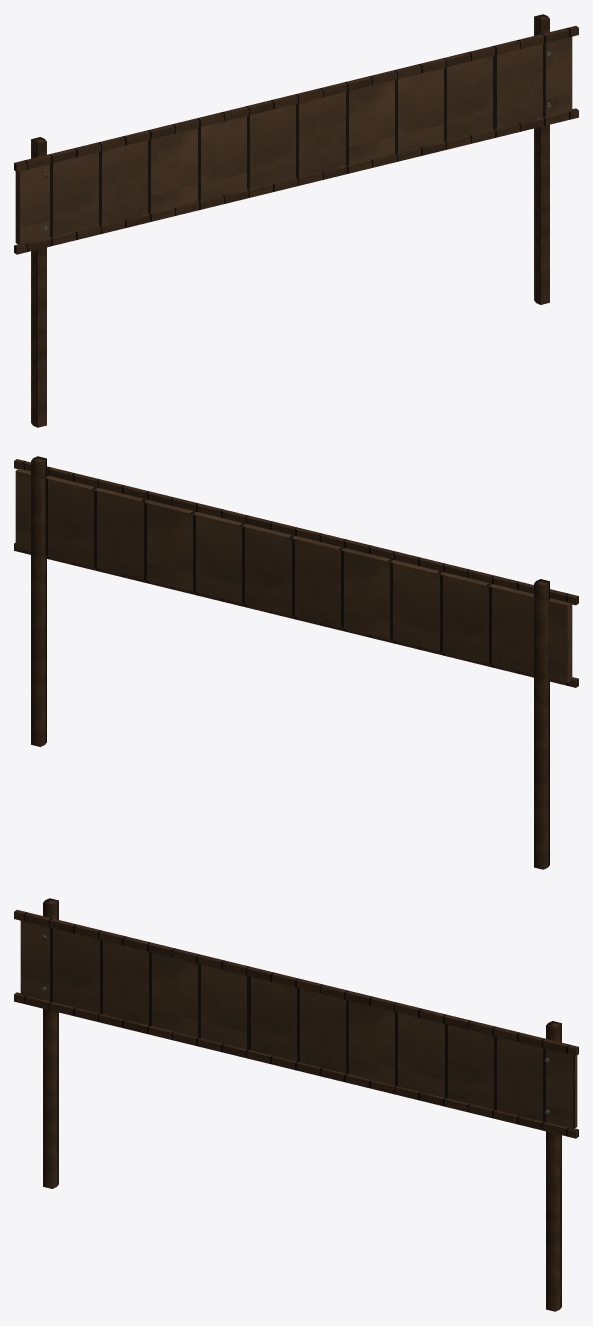
The model's file is ext_town_sign.glb.
The picture shows the model from 3 angles, top to bottom: view 1: azimuth 30°, elevation 25°; view 2: azimuth 150°, elevation 25°; view 3: azimuth 330°, elevation 25°; orthographic projection.
Parts seen in each view (by area): view 1: post-col, detail; view 2: post-col, detail; view 3: post-col, detail.
Part boxes in pixels (bbox=[...]): post-col: bbox=[15, 14, 572, 427]; detail: bbox=[14, 26, 578, 254]; post-col: bbox=[15, 456, 572, 869]; detail: bbox=[14, 459, 578, 687]; post-col: bbox=[20, 898, 577, 1311]; detail: bbox=[14, 910, 578, 1138].
Size of what is drawn, in the model's own units: 5.7 by 2.75 by 0.1872.
3 materials, 3 textured.
